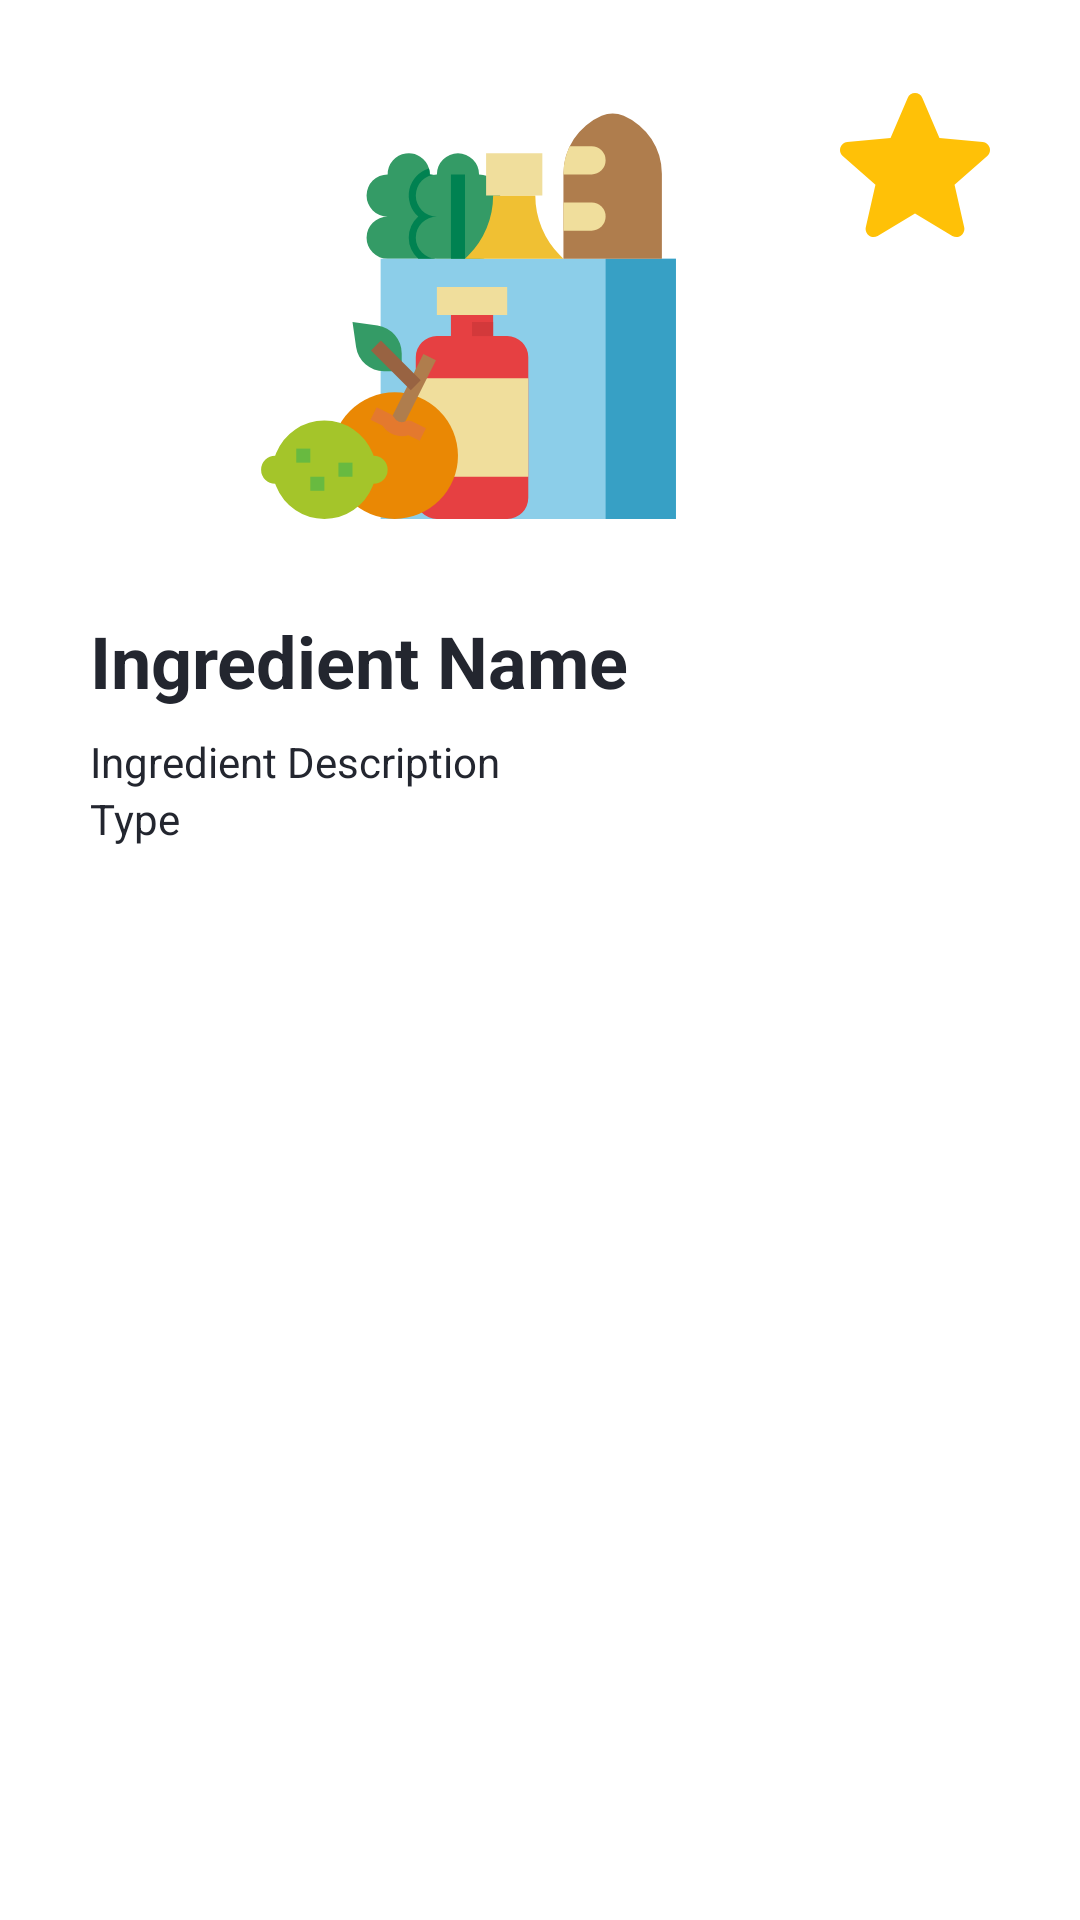

Named icons in this screenshot (1080*1920) and their bounding boxes, (x1, y1, x2, y2):
favourite star: (840, 93, 990, 237)
